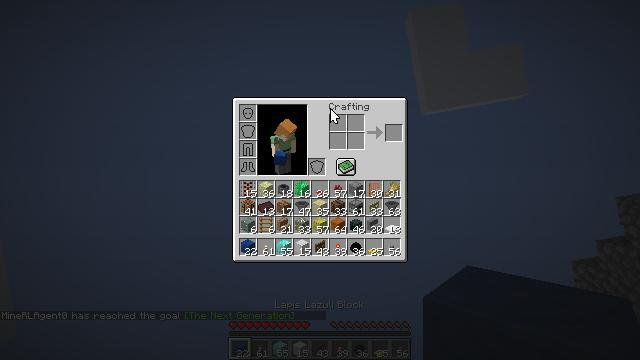cursor: (330, 108, 340, 124)
